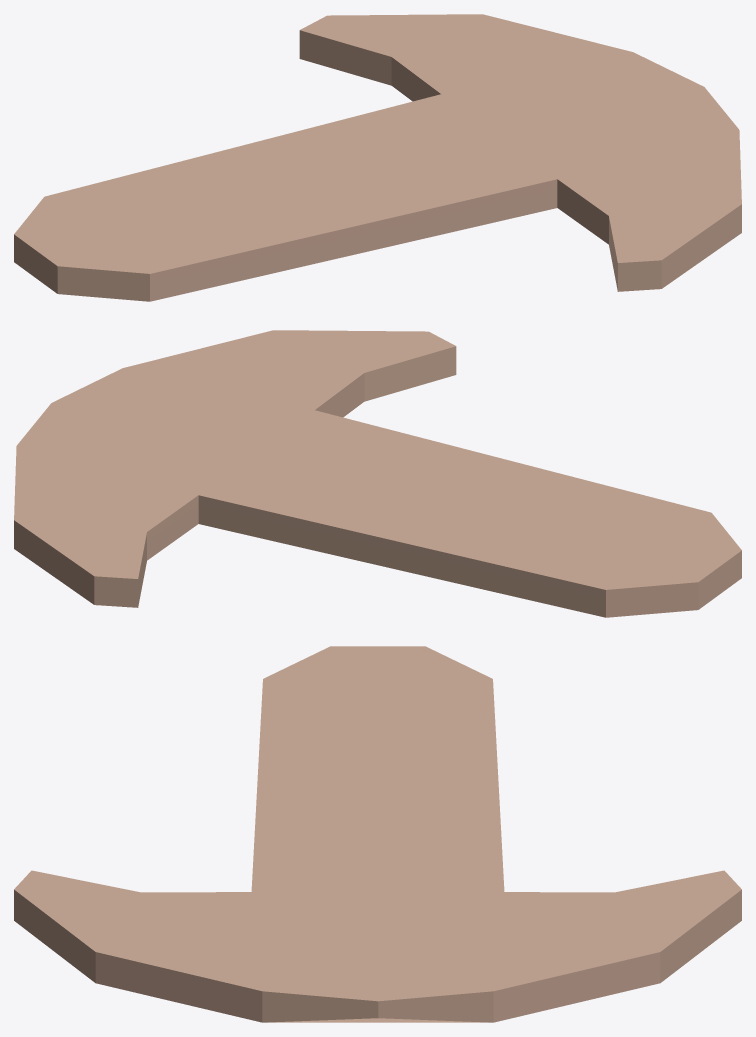
Rendered from mushroom-slice.glb.
3 views of the same model, one above another, from view 1: azimuth 30°, elevation 25°; view 2: azimuth 150°, elevation 25°; view 3: azimuth 270°, elevation 25° (orthographic). The views are drawn at different scales.
Parts seen in each view (by area): view 1: MushroomSlice.001; view 2: MushroomSlice.001; view 3: MushroomSlice.001.
Part boxes in pixels (box(x1,y1,x2,y2)): MushroomSlice.001: box(14, 14, 741, 301); MushroomSlice.001: box(14, 330, 741, 617); MushroomSlice.001: box(14, 646, 741, 1022).
Bounding box in the file's own units: 0.155 × 0.00639 × 0.1343.
1 material, 1 textured.
